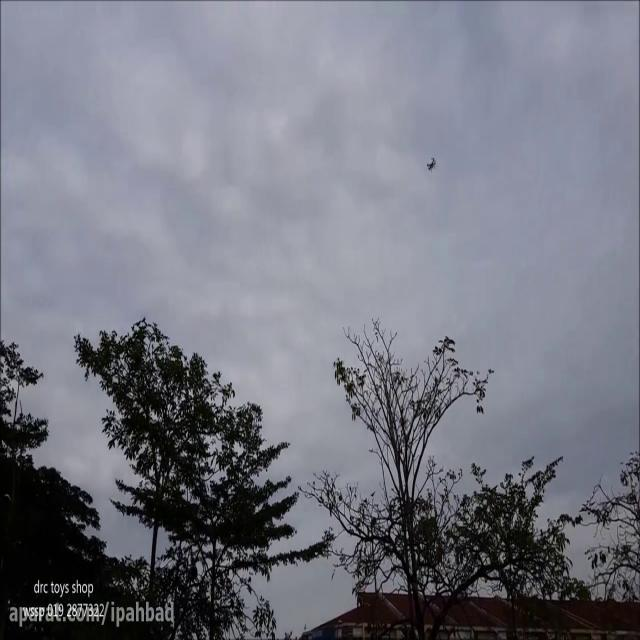drone: (425, 153, 437, 175)
